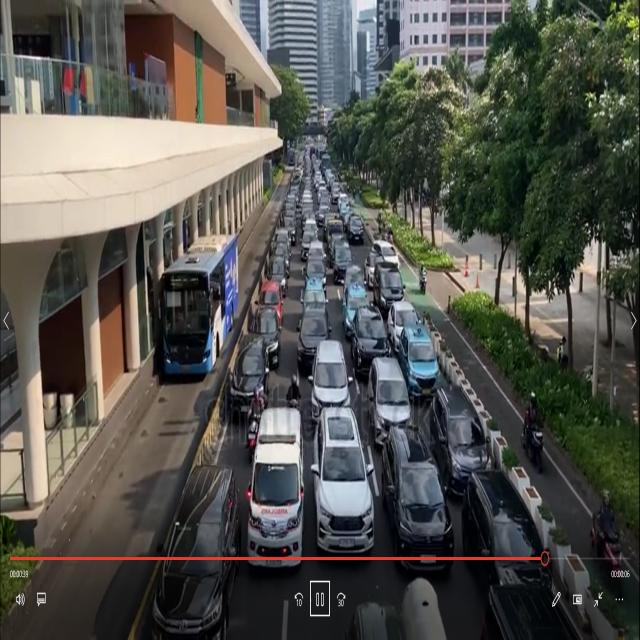Ambulance: (245, 402, 304, 577)
